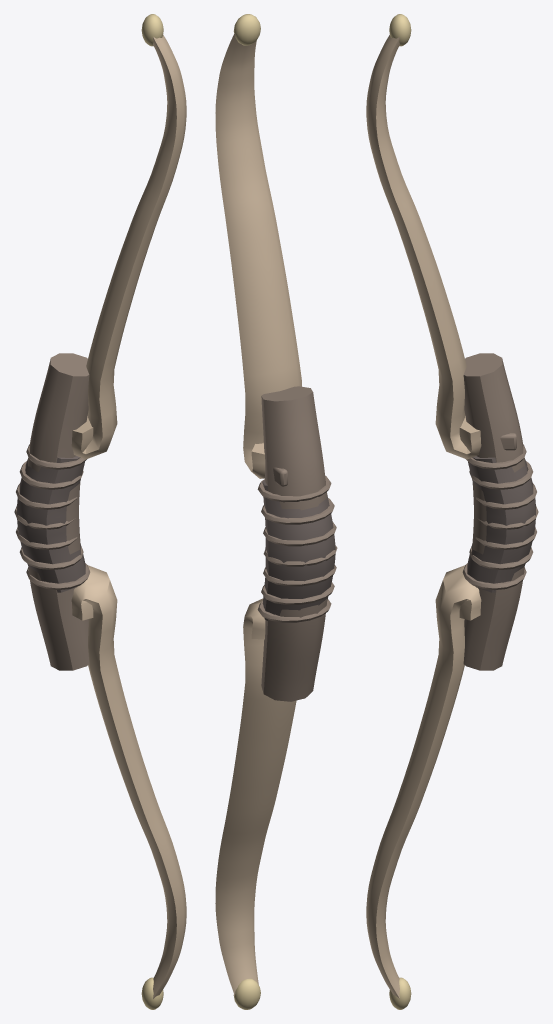
The model's file is Bow_Recurve.glb.
3 views of the same model, side by side, from view 1: azimuth 90°, elevation 25°; view 2: azimuth 210°, elevation 25°; view 3: azimuth 270°, elevation 25° (orthographic).
Visible parts, largest first — view 1: sweep.001, sweep, sweep.002, sweep.003, Sphere, Torus, Torus.005, Torus.001, Sphere.001, Torus.006; view 2: sweep, sweep.001, sweep.002, sweep.003, Sphere, Sphere.001, Torus.005, Torus.006, Torus, Torus.001, Torus.004, Torus.002 (+1 smaller); view 3: sweep.001, sweep, sweep.002, sweep.003, Sphere, Torus, Torus.005, Torus.001, Sphere.001, Torus.006.
Boxes of the visible parts, x1,y1,x2,y2 form: sweep.001: [71, 565, 186, 998]; sweep: [71, 35, 186, 459]; sweep.002: [28, 353, 89, 670]; sweep.003: [17, 456, 85, 592]; Sphere: [141, 14, 163, 46]; Torus: [26, 563, 90, 590]; Torus.005: [19, 461, 83, 489]; Torus.001: [19, 546, 83, 569]; Sphere.001: [141, 977, 163, 1009]; Torus.006: [26, 444, 86, 469]; sweep: [215, 33, 301, 478]; sweep.001: [215, 598, 296, 996]; sweep.002: [261, 386, 326, 701]; sweep.003: [262, 480, 335, 620]; Sphere: [233, 14, 260, 45]; Sphere.001: [233, 978, 260, 1009]; Torus.005: [261, 498, 334, 524]; Torus.006: [257, 476, 331, 502]; Torus: [257, 599, 331, 622]; Torus.001: [261, 582, 334, 604]; Torus.004: [263, 522, 336, 546]; Torus.002: [263, 565, 336, 586]; sweep.001: [366, 565, 481, 998]; sweep: [366, 35, 481, 459]; sweep.002: [463, 353, 524, 670]; sweep.003: [467, 456, 535, 592]; Sphere: [389, 14, 411, 46]; Torus: [462, 563, 526, 590]; Torus.005: [469, 461, 533, 489]; Torus.001: [469, 546, 533, 569]; Sphere.001: [389, 977, 411, 1009]; Torus.006: [466, 444, 526, 469].
Bounding box in the file's own units: 0.0521 × 0.7425 × 0.1167.
